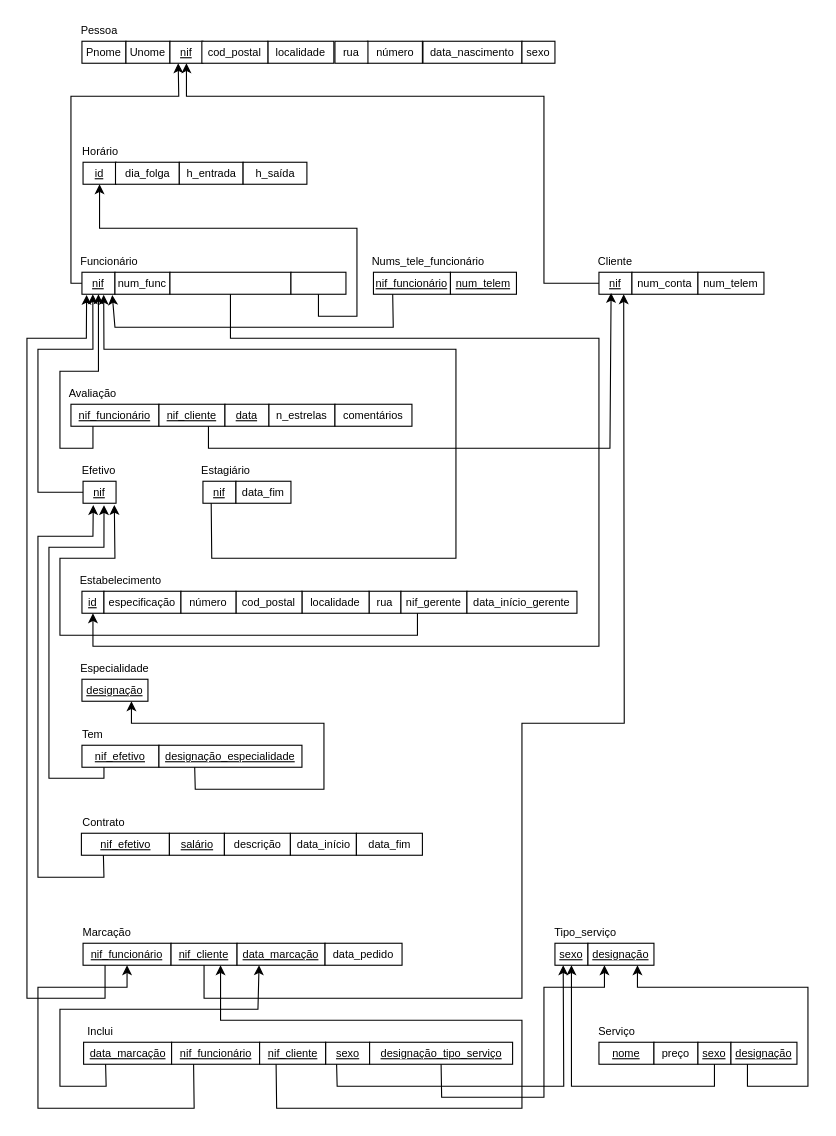
The diagram is 836 pixels wide and 1136 high, and some of its shapes have lost their labels. Here are the shapes that lost their labels. From the top down, the centre of each, then its label:
(230,282): num_estabelecimento
(318,282): id_horário
